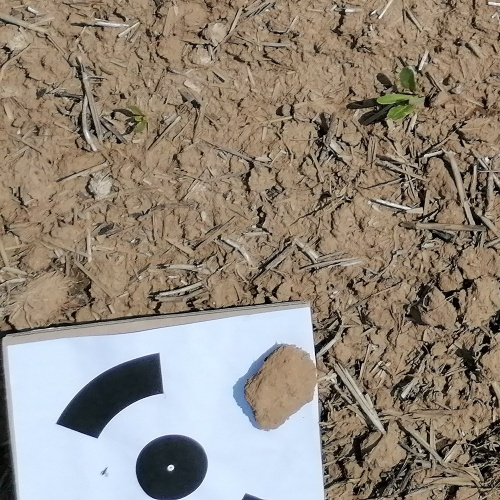beet: (374, 67, 427, 122), (128, 106, 151, 133)
